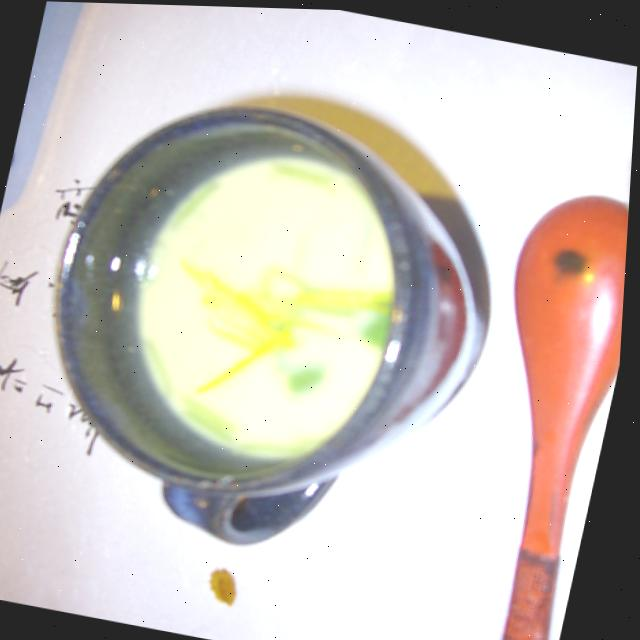鸡蛋料理: (5, 80, 519, 569)
